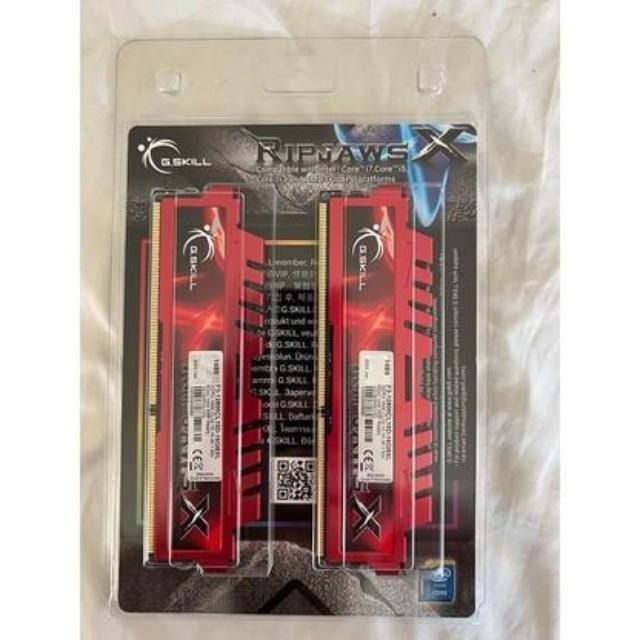RAM: (144, 184, 266, 570), (318, 180, 434, 574)
